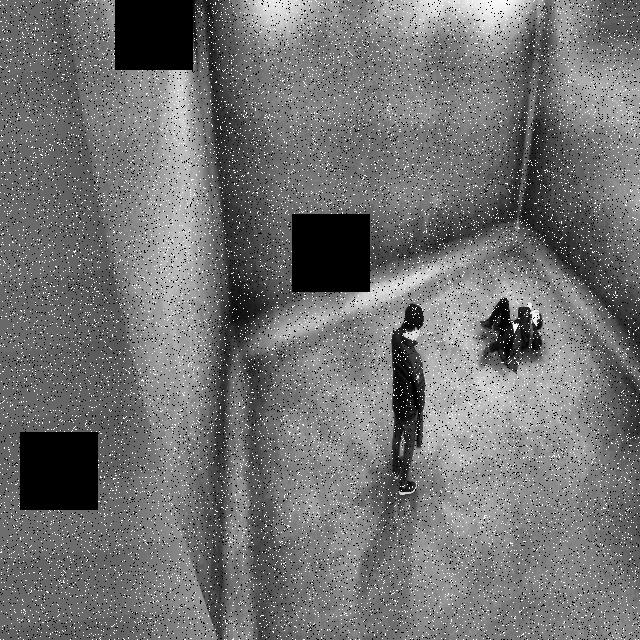assult: (378, 283, 562, 505), (476, 282, 550, 380)
